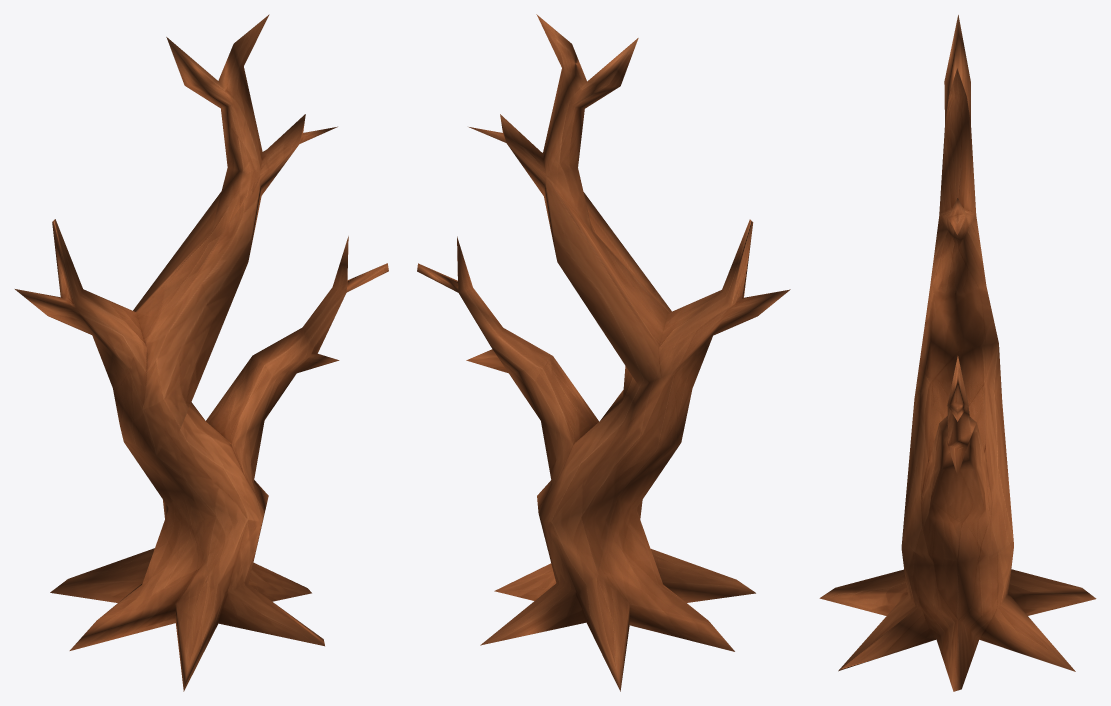
File: Meshy_AI_Twisted_Timber_0830063340_texture.fbx
3 renders of one model, left to right at view 1: azimuth 30°, elevation 25°; view 2: azimuth 150°, elevation 25°; view 3: azimuth 270°, elevation 25°, orthographic. The views are drawn at different scales.
Parts seen in each view (by area): view 1: mesh_node; view 2: mesh_node; view 3: mesh_node.
Part boxes in pixels (x1,y1,x2,y2): mesh_node: [15, 14, 388, 691]; mesh_node: [417, 14, 790, 691]; mesh_node: [819, 15, 1096, 691].
Size of the model in its own units: 65.62 by 99.41 by 41.02.
1 material, 1 textured.
